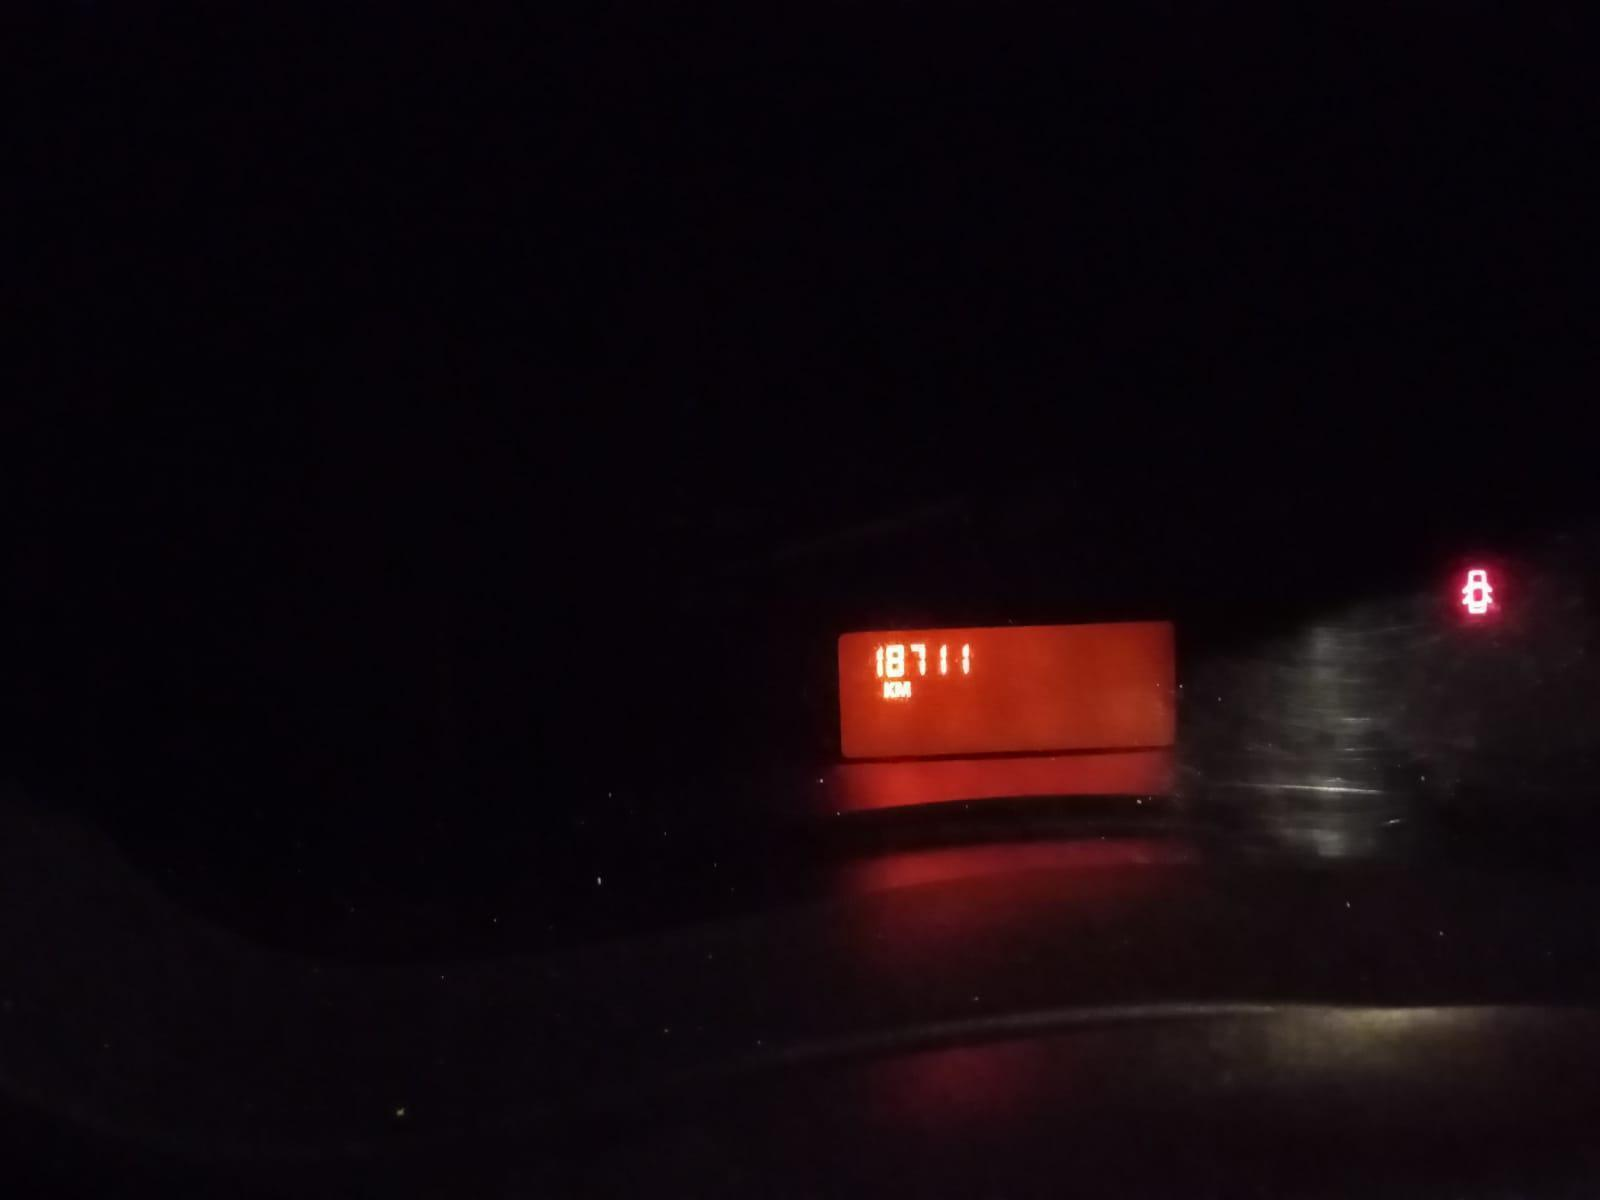1: (934, 642, 951, 677), (957, 639, 973, 674), (871, 643, 884, 679)
7: (908, 638, 930, 676)
8: (883, 640, 905, 681)
X: (894, 678, 912, 698), (882, 679, 894, 700)
odometer: (833, 625, 1196, 760)
